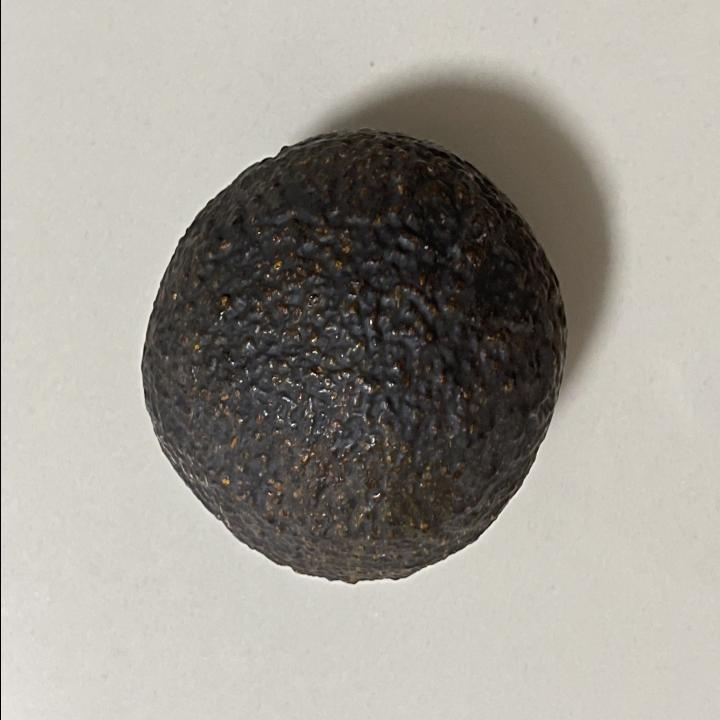Level2: (130, 122, 572, 590)
